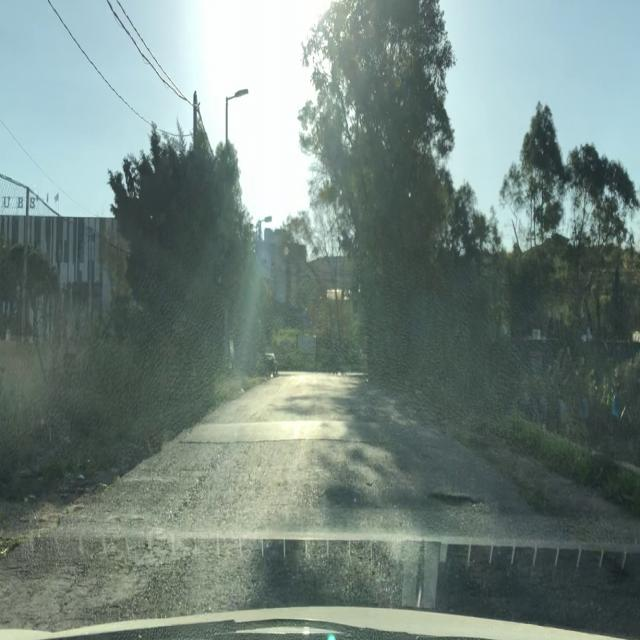Pothole: (423, 486, 485, 514)
